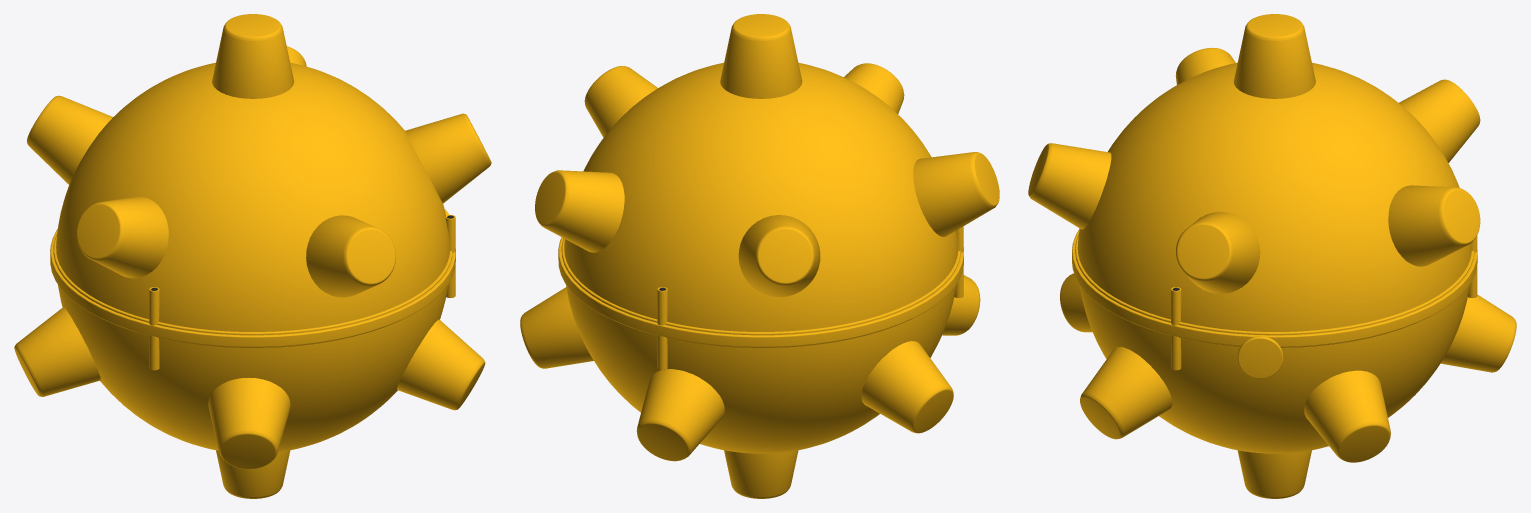
The model's file is bumble_ball.fbx.
The picture shows the model from 3 angles, left to right: view 1: azimuth 30°, elevation 25°; view 2: azimuth 150°, elevation 25°; view 3: azimuth 270°, elevation 25°; orthographic projection.
Visible parts, largest first — view 1: Sphere, Cylinder_2, Cylinder_2_7, Cylinder_2_12, Cylinder_2_8, Tube, Cylinder_2_3, Cylinder_2_6, Cylinder_2_11, Cylinder_2_9, Tube_1, Cylinder_2_2 (+1 smaller); view 2: Sphere, Cylinder_2_5, Cylinder_2_10, Cylinder_2_6, Cylinder_2_8, Cylinder_2_7, Tube, Cylinder_2_9, Cylinder_2_4, Cylinder_2_2, Cylinder_2_11, Tube_1 (+3 smaller); view 3: Sphere, Cylinder_2_10, Cylinder_2_4, Cylinder_2_8, Cylinder_2_3, Cylinder_2_11, Tube, Cylinder_2_12, Cylinder_2_5, Cylinder_2_9, Cylinder_2_2, Tube_1 (+4 smaller).
Part boxes in pixels (box(x1,y1,x2,y2)): Sphere: box(56, 62, 449, 451); Cylinder_2: box(208, 377, 290, 469); Cylinder_2_7: box(76, 196, 168, 278); Cylinder_2_12: box(306, 215, 395, 297); Cylinder_2_8: box(212, 14, 294, 98); Tube: box(50, 229, 455, 347); Cylinder_2_3: box(397, 319, 485, 410); Cylinder_2_6: box(14, 307, 100, 396); Cylinder_2_11: box(405, 113, 491, 203); Cylinder_2_9: box(27, 95, 112, 184); Tube_1: box(53, 234, 452, 347); Cylinder_2_2: box(216, 450, 290, 498); Sphere: box(564, 62, 957, 453); Cylinder_2_5: box(636, 369, 724, 461); Cylinder_2_10: box(535, 170, 624, 252); Cylinder_2_6: box(861, 341, 953, 433); Cylinder_2_8: box(720, 14, 802, 98); Cylinder_2_7: box(913, 152, 999, 236); Tube: box(558, 237, 963, 347); Cylinder_2_9: box(738, 215, 820, 297); Cylinder_2_4: box(520, 287, 593, 368); Cylinder_2_2: box(724, 450, 798, 498); Cylinder_2_11: box(584, 66, 657, 137); Tube_1: box(561, 238, 960, 347); Sphere: box(1077, 62, 1471, 453); Cylinder_2_10: box(1388, 185, 1480, 266); Cylinder_2_4: box(1304, 370, 1390, 462); Cylinder_2_8: box(1233, 14, 1315, 98); Cylinder_2_3: box(1080, 347, 1172, 439); Cylinder_2_11: box(1175, 211, 1260, 293); Tube: box(1072, 229, 1477, 347); Cylinder_2_12: box(1028, 143, 1111, 229); Cylinder_2_5: box(1440, 294, 1516, 372); Cylinder_2_9: box(1399, 79, 1480, 162); Cylinder_2_2: box(1237, 450, 1311, 498); Tube_1: box(1075, 234, 1474, 347).
Size of the model in its own units: 188 by 202 by 193.
